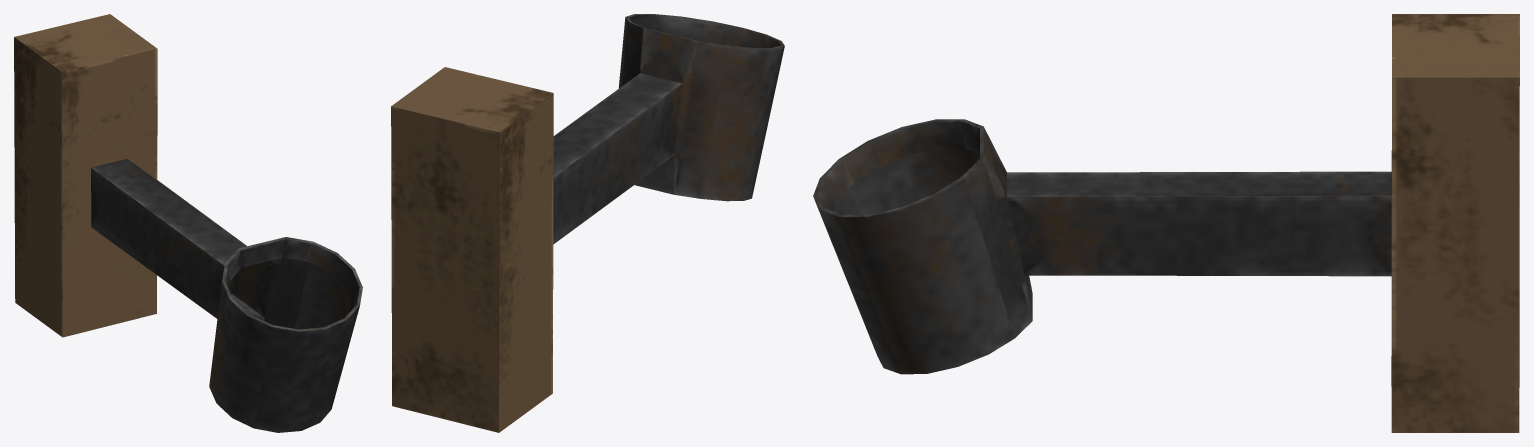
Rendered from Torch base.fbx.
The picture shows the model from 3 angles, left to right: view 1: azimuth 30°, elevation 25°; view 2: azimuth 150°, elevation 25°; view 3: azimuth 270°, elevation 25°; orthographic projection. The views are drawn at different scales.
Visible parts, largest first — view 1: Cylinder.001; view 2: Cylinder.001; view 3: Cylinder.001.
Part boxes in pixels (<box>): Cylinder.001: <box>14,14,362,432</box>; Cylinder.001: <box>391,14,784,432</box>; Cylinder.001: <box>813,14,1519,432</box>.
Bounding box in the file's own units: 10.55 × 21.4 × 38.35.
